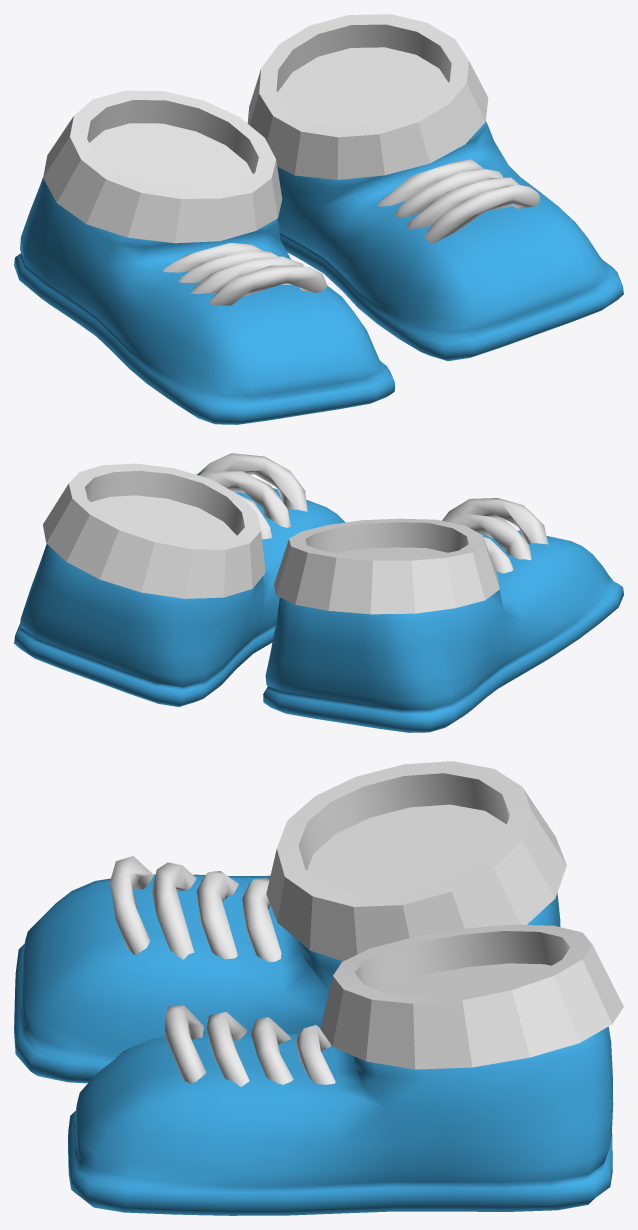
Rendered from Shoe.fbx.
The picture shows the model from 3 angles, top to bottom: view 1: azimuth 30°, elevation 25°; view 2: azimuth 150°, elevation 25°; view 3: azimuth 270°, elevation 25°; orthographic projection. The views are drawn at different scales.
Parts seen in each view (by area): view 1: Shoes; view 2: Shoes; view 3: Shoes.
Part boxes in pixels (x1,y1,x2,y2): Shoes: (14,14,623,424); Shoes: (14,453,623,732); Shoes: (14,761,623,1215).
Size of the model in its own units: 0.4977 by 0.199 by 0.4625.
